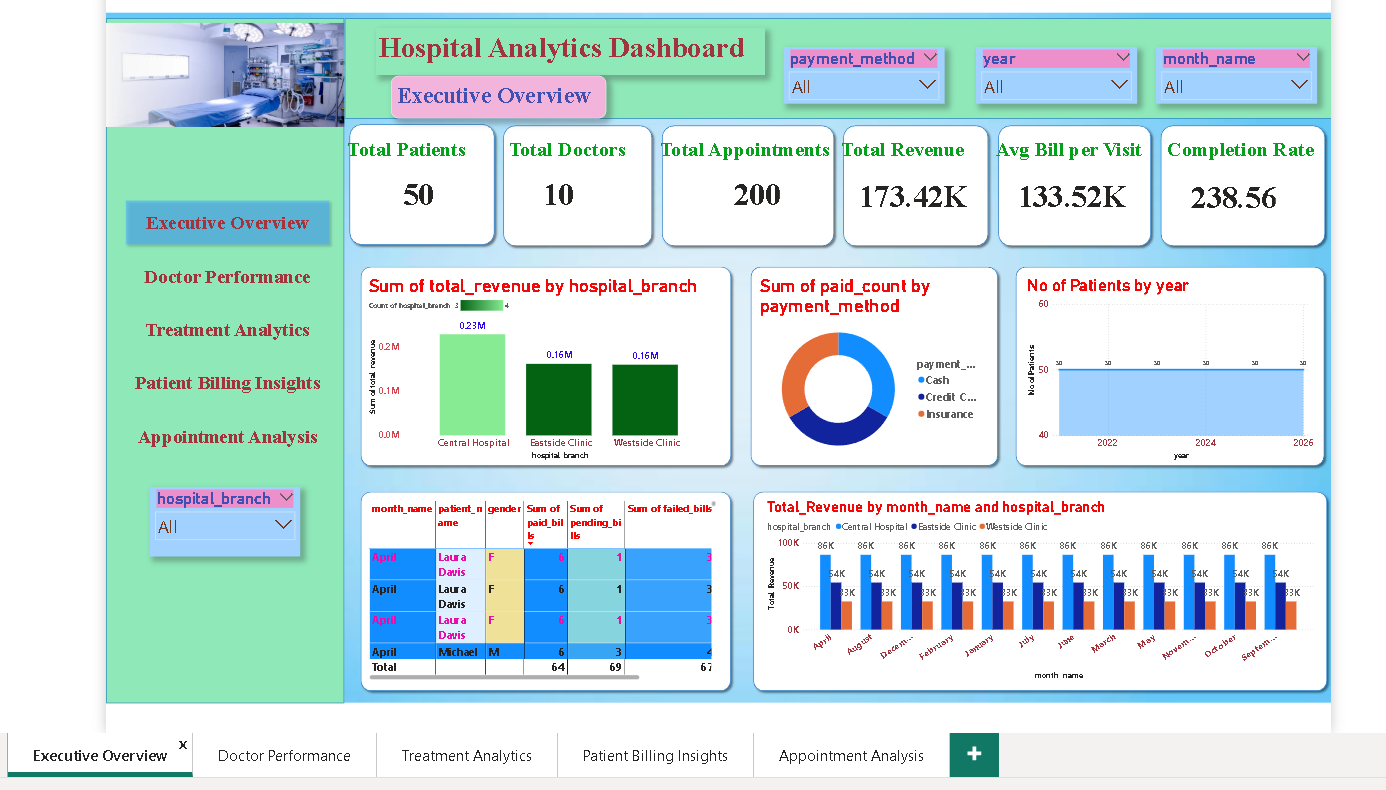

What the dashboard file says about the page in this screenshot:
{"tool":"powerbi","page":{"name":"Executive Overview","canvas":[2300,1400],"ordinal":0},"visuals":[{"type":"actionButton","box":[534.2,143,403.8,82.8],"z":0},{"type":"actionButton","box":[29,391.5,400,100.2],"z":0,"group":"g1"},{"type":"shape","box":[0,58,447,1285.6],"z":1000},{"type":"actionButton","box":[29,491.7,400,100.2],"z":1000,"group":"g1"},{"type":"shape","box":[447,58,1853.4,188.5],"z":2000},{"type":"actionButton","box":[29,592,400,100.2],"z":2000,"group":"g1"},{"type":"textbox","box":[506.7,77.8,729.9,87.8],"z":3000},{"type":"actionButton","box":[29,792.5,400,99],"z":3000,"group":"g1"},{"type":"shape","box":[1698.8,517.1,596.9,391.5],"z":4000},{"type":"actionButton","box":[29,692.2,400,100.2],"z":4000,"group":"g1"},{"type":"shape","box":[1205.8,937.6,1094.7,391.5],"z":5000},{"type":"shape","box":[447,248.9,290,244.1],"z":6000},{"type":"shape","box":[1375,251.3,290,244.1],"z":7000},{"type":"shape","box":[737,251.3,297.2,244.1],"z":8000},{"type":"shape","box":[1034.3,251.3,340.7,244.1],"z":9000},{"type":"shape","box":[1201.4,516.7,481.6,391.3],"z":10000},{"type":"shape","box":[469,938.1,712.3,391.3],"z":11000},{"type":"shape","box":[468.8,517.1,712.9,391.5],"z":12000},{"type":"group","id":"g1","title":"Group 1","box":[29,391.5,401.1,500.2],"z":13000},{"type":"textbox","box":[534.2,165.5,403.8,80.3],"z":14000},{"type":"shape","box":[1665,251.3,304.5,244.1],"z":15000},{"type":"shape","box":[1969.4,251.3,326.2,244.1],"z":16000},{"type":"textbox","box":[447,277.9,246.5,65.2],"z":17000},{"type":"textbox","box":[751.5,277.9,282.7,65.2],"z":18000},{"type":"textbox","box":[1034.3,277.9,340.7,67.7],"z":19000},{"type":"textbox","box":[1375,277.9,290,65.2],"z":20000},{"type":"textbox","box":[1665,277.9,304.5,65.2],"z":21000},{"type":"textbox","box":[1986.3,277.9,287.6,65.2],"z":22000},{"type":"cardVisual","fields":{"Data":["dim_patients.No of Patients"]},"box":[526.8,343.1,130.5,94.2],"z":23000},{"type":"cardVisual","fields":{"Data":["Sum(agg_patient_billing_summary.avg_bill_per_visit)"]},"box":[1681.9,345.6,287.6,94.2],"z":24000},{"type":"cardVisual","fields":{"Data":["dim_doctors.No of Doctors"]},"box":[790.2,343.1,130.5,94.2],"z":25000},{"type":"cardVisual","fields":{"Data":["Sum(dim_doctors.total_appointments)"]},"box":[1150.2,343.1,149.8,94.2],"z":26000},{"type":"cardVisual","fields":{"Data":["dim_date.Total_Revenue"]},"box":[1384.6,345.6,270.6,94.2],"z":27000},{"type":"cardVisual","fields":{"Data":["Sum(agg_doctor_performance.completion_rate_pct)"]},"box":[2008.1,345.6,224.7,101.5],"z":28000},{"type":"columnChart","fields":{"Category":["agg_doctor_performance.hospital_branch"],"Y":["Sum(agg_doctor_performance.total_revenue)"]},"box":[488.1,541.3,662.1,350.4],"z":29000},{"type":"donutChart","fields":{"Category":["fact_appointments.payment_method"],"Y":["Sum(agg_treatment_summary.paid_count)"]},"box":[1222.7,541.3,439.8,350.4],"z":30000},{"type":"tableEx","fields":{"Values":["dim_date.month_name","agg_patient_billing_summary.patient_name","agg_patient_billing_summary.gender","Sum(agg_patient_billing_summary.paid_bills)","Sum(agg_patient_billing_summary.pending_bills)","Sum(agg_patient_billing_summary.failed_bills)","fact_appointments.payment_method"]},"box":[488.1,959.3,662.1,345.6],"z":31000},{"type":"clusteredColumnChart","fields":{"Category":["dim_date.month_name"],"Y":["dim_date.Total_Revenue"],"Series":["agg_doctor_performance.hospital_branch"]},"box":[1237.2,959.3,1034.3,345.6],"z":32000},{"type":"stackedAreaChart","fields":{"Category":["dim_date.year"],"Y":["dim_patients.No of Patients"]},"box":[1725.4,541.3,546.1,350.4],"z":33000},{"type":"slicer","fields":{"Values":["dim_doctors.hospital_branch"]},"box":[82.2,937.6,282.7,130.5],"z":34000},{"type":"slicer","fields":{"Values":["dim_date.year"]},"box":[1633.5,113.6,302.1,106.3],"z":35000},{"type":"slicer","fields":{"Values":["dim_date.month_name"]},"box":[1969.4,113.6,302.1,106.3],"z":36000},{"type":"slicer","fields":{"Values":["fact_appointments.payment_method"]},"box":[1271.1,113.6,302.1,106.3],"z":37000},{"type":"image","box":[0,58,447,212.7],"z":38000}]}

Visuals, with their boxes on the page's 2300x1400 design canvas (x1, y1, x2, y2). These are canvas units, not pixel positions in the 1386x790 screenshot, which may show the page scaled, cropped or inside an application window:
actionButton: bbox(534, 143, 938, 226)
actionButton: bbox(29, 392, 429, 492)
shape: bbox(0, 58, 447, 1344)
actionButton: bbox(29, 492, 429, 592)
shape: bbox(447, 58, 2300, 246)
actionButton: bbox(29, 592, 429, 692)
textbox: bbox(507, 78, 1237, 166)
actionButton: bbox(29, 792, 429, 892)
shape: bbox(1699, 517, 2296, 909)
actionButton: bbox(29, 692, 429, 792)
shape: bbox(1206, 938, 2300, 1329)
shape: bbox(447, 249, 737, 493)
shape: bbox(1375, 251, 1665, 495)
shape: bbox(737, 251, 1034, 495)
shape: bbox(1034, 251, 1375, 495)
shape: bbox(1201, 517, 1683, 908)
shape: bbox(469, 938, 1181, 1329)
shape: bbox(469, 517, 1182, 909)
"Group 1" group: bbox(29, 392, 430, 892)
textbox: bbox(534, 166, 938, 246)
shape: bbox(1665, 251, 1970, 495)
shape: bbox(1969, 251, 2296, 495)
textbox: bbox(447, 278, 694, 343)
textbox: bbox(752, 278, 1034, 343)
textbox: bbox(1034, 278, 1375, 346)
textbox: bbox(1375, 278, 1665, 343)
textbox: bbox(1665, 278, 1970, 343)
textbox: bbox(1986, 278, 2274, 343)
cardVisual - dim_patients.No of Patients: bbox(527, 343, 657, 437)
cardVisual - Sum(agg_patient_billing_summary.avg_bill_per_visit): bbox(1682, 346, 1970, 440)
cardVisual - dim_doctors.No of Doctors: bbox(790, 343, 921, 437)
cardVisual - Sum(dim_doctors.total_appointments): bbox(1150, 343, 1300, 437)
cardVisual - dim_date.Total_Revenue: bbox(1385, 346, 1655, 440)
cardVisual - Sum(agg_doctor_performance.completion_rate_pct): bbox(2008, 346, 2233, 447)
columnChart - agg_doctor_performance.hospital_branch x Sum(agg_doctor_performance.total_revenue): bbox(488, 541, 1150, 892)
donutChart - fact_appointments.payment_method x Sum(agg_treatment_summary.paid_count): bbox(1223, 541, 1662, 892)
tableEx - dim_date.month_name x agg_patient_billing_summary.patient_name: bbox(488, 959, 1150, 1305)
clusteredColumnChart - dim_date.month_name x dim_date.Total_Revenue: bbox(1237, 959, 2272, 1305)
stackedAreaChart - dim_date.year x dim_patients.No of Patients: bbox(1725, 541, 2272, 892)
slicer - dim_doctors.hospital_branch: bbox(82, 938, 365, 1068)
slicer - dim_date.year: bbox(1634, 114, 1936, 220)
slicer - dim_date.month_name: bbox(1969, 114, 2272, 220)
slicer - fact_appointments.payment_method: bbox(1271, 114, 1573, 220)
image: bbox(0, 58, 447, 271)
